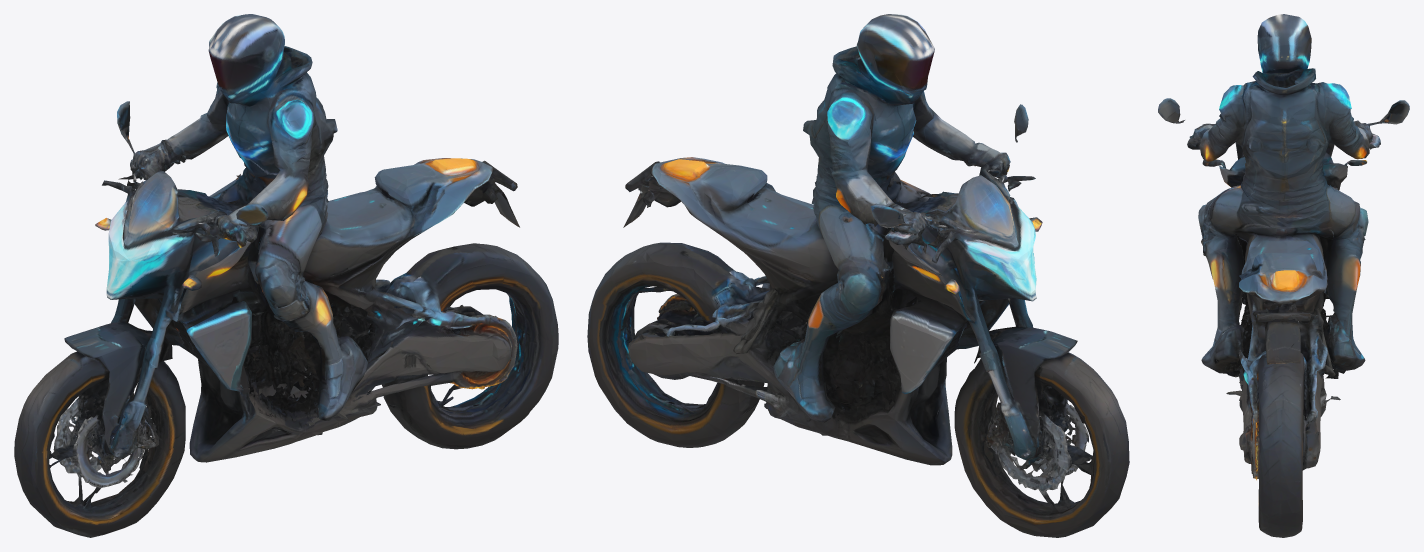
File: volt_scifi.glb
3 renders of one model, left to right at view 1: azimuth 30°, elevation 25°; view 2: azimuth 150°, elevation 25°; view 3: azimuth 270°, elevation 25°, orthographic. The views are drawn at different scales.
Parts seen in each view (by area): view 1: temp_Material.019_0; view 2: temp_Material.019_0; view 3: temp_Material.019_0.
Boxes of the visible parts, box(x1,y1,x2,y2) form: temp_Material.019_0: box(14, 14, 558, 537); temp_Material.019_0: box(587, 14, 1129, 537); temp_Material.019_0: box(1158, 14, 1409, 537).
Size of the model in its own units: 2 by 1.72 by 0.9349.
Materials: 1 (1 with a texture image).
